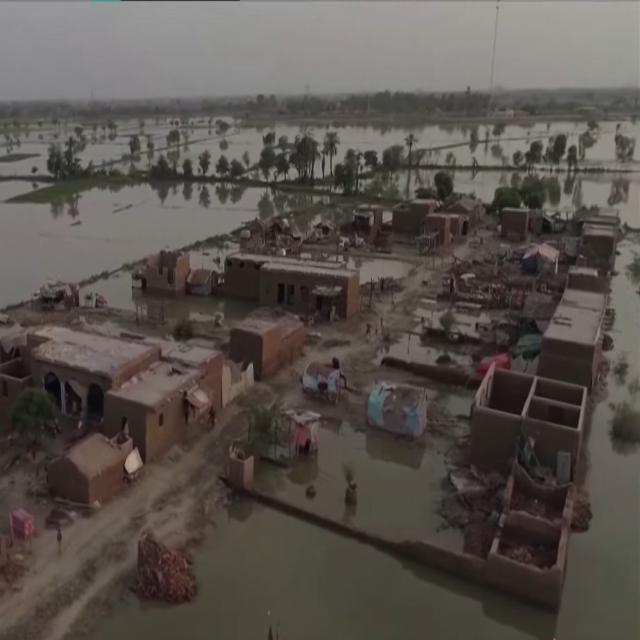flood: (67, 232, 640, 640), (0, 115, 588, 202), (256, 381, 472, 552), (0, 184, 265, 304), (79, 243, 258, 342), (359, 258, 496, 382), (539, 170, 640, 229), (589, 120, 640, 162)
house: (25, 324, 222, 464), (473, 364, 592, 460), (546, 291, 609, 387), (259, 260, 356, 318)
